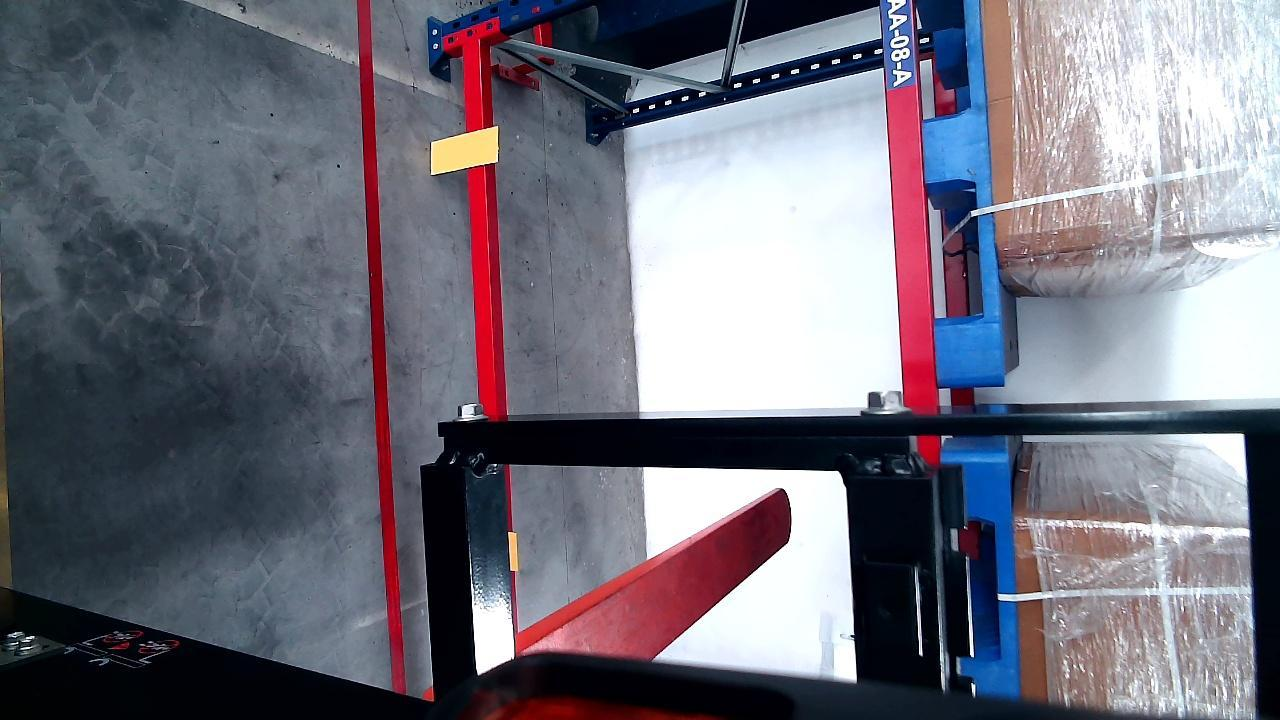red_line: (361, 1, 403, 694)
